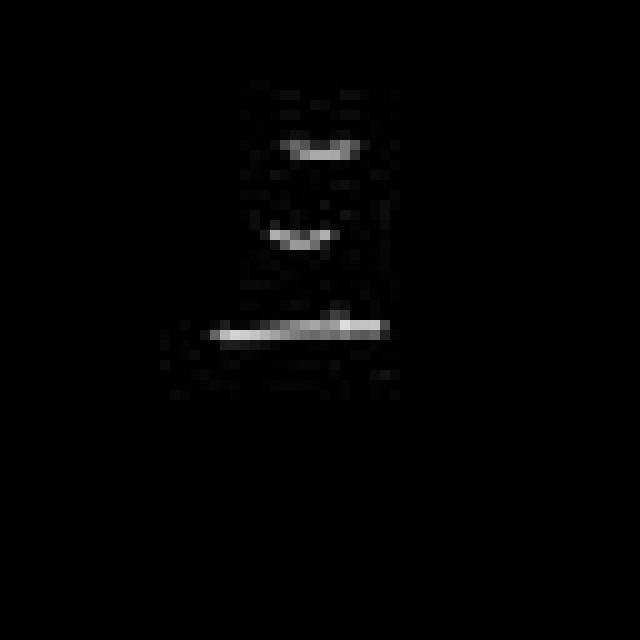3 -three-: (200, 123, 399, 360)
